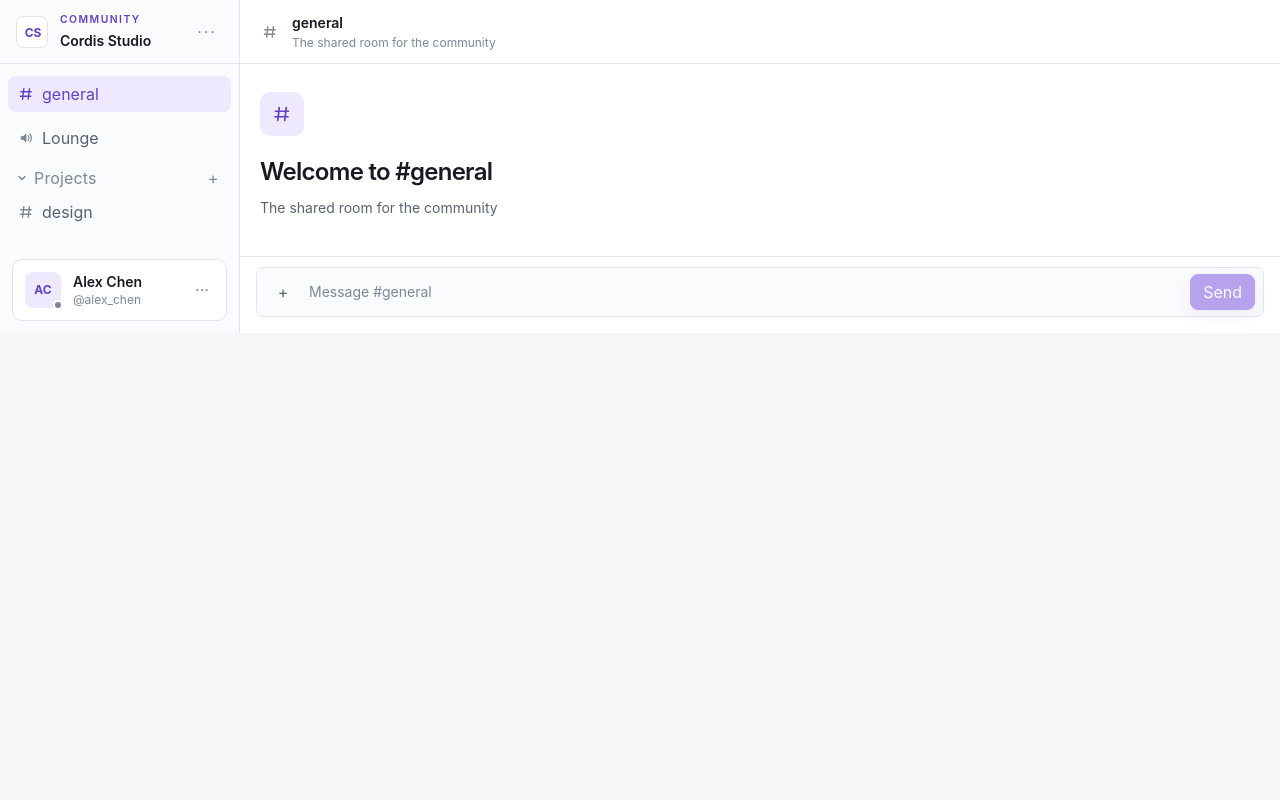
GuildPage › creates and selects a top-level channel from the community menu
Click the button named "Community menu".
click(207, 32)  # box [191,16,223,48]
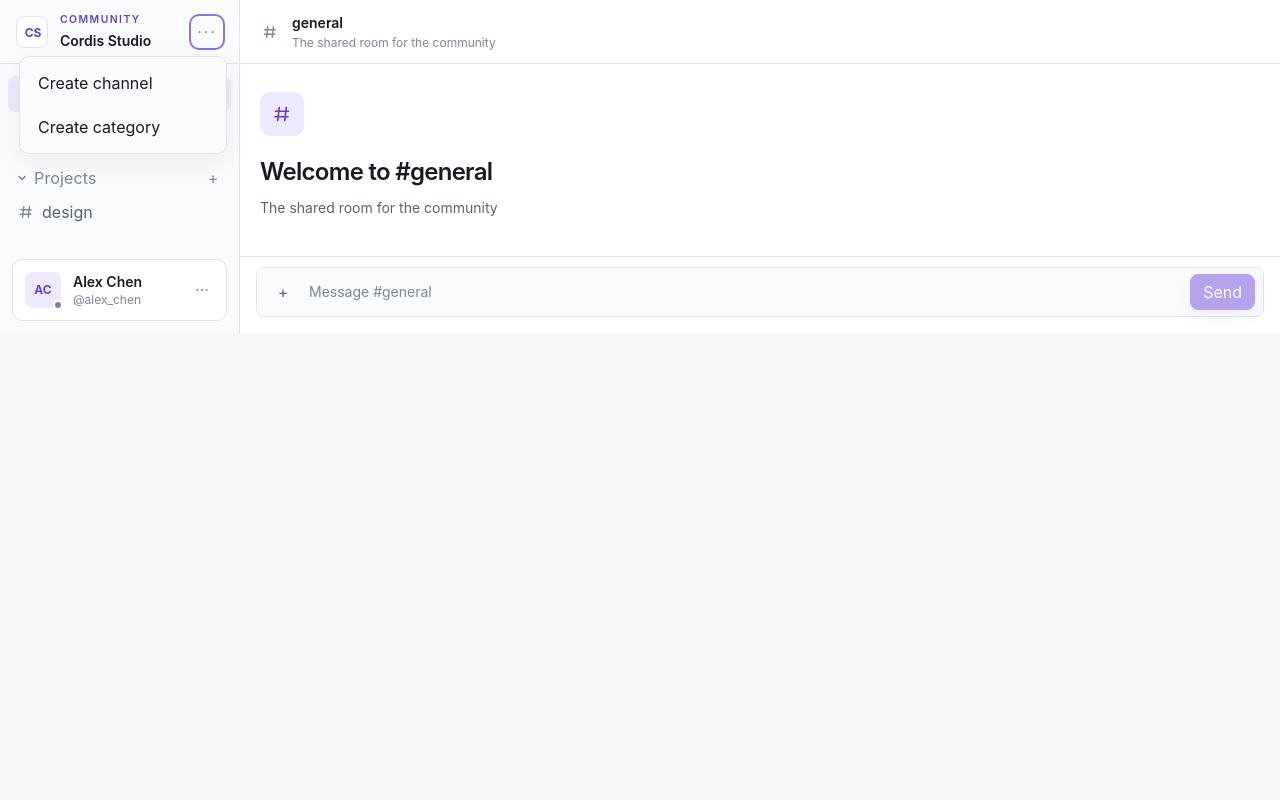
Click the menu item "Create channel".
click(123, 83)  # box [26,63,220,103]
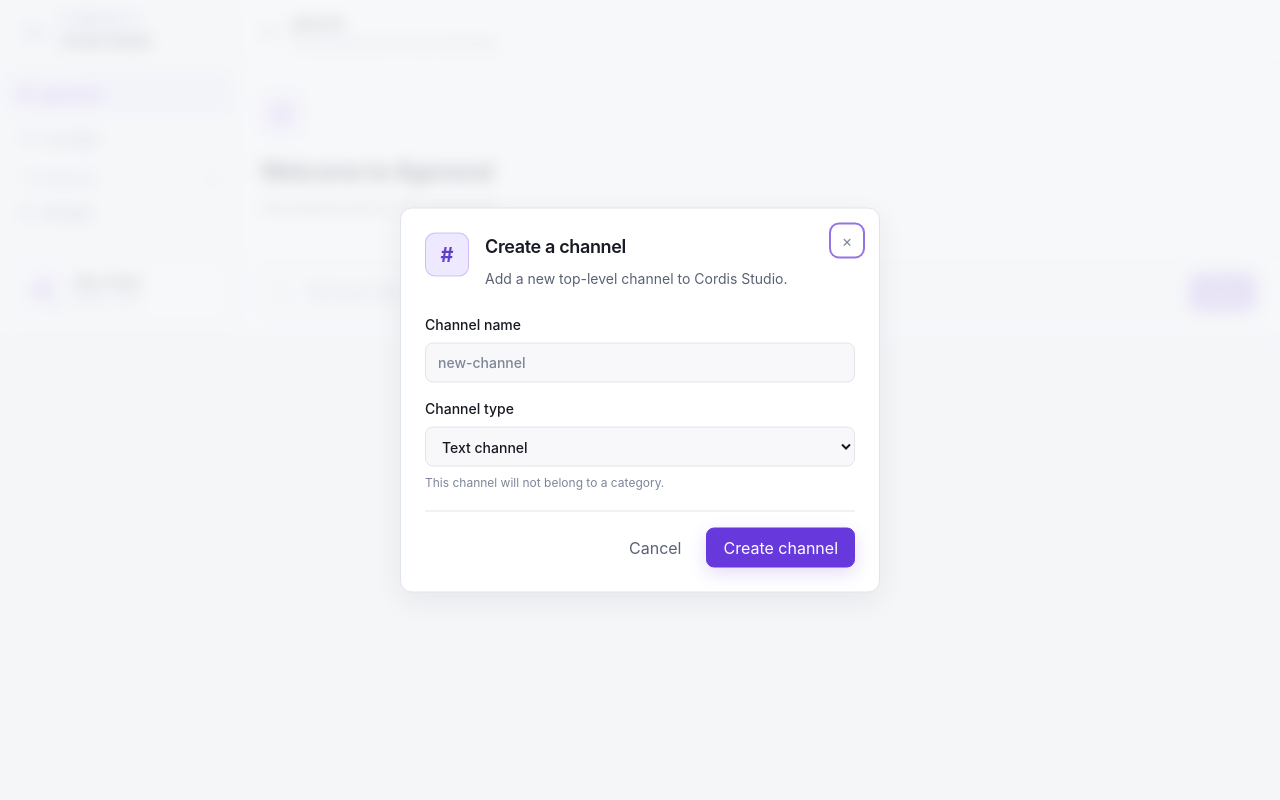
Expected: the text "This channel will not belong to a category." is shown, [425,474,664,490]
Type "announcements" into the field labelled "Channel name".
click(640, 362); type("announcements")  # box [425,342,855,382]
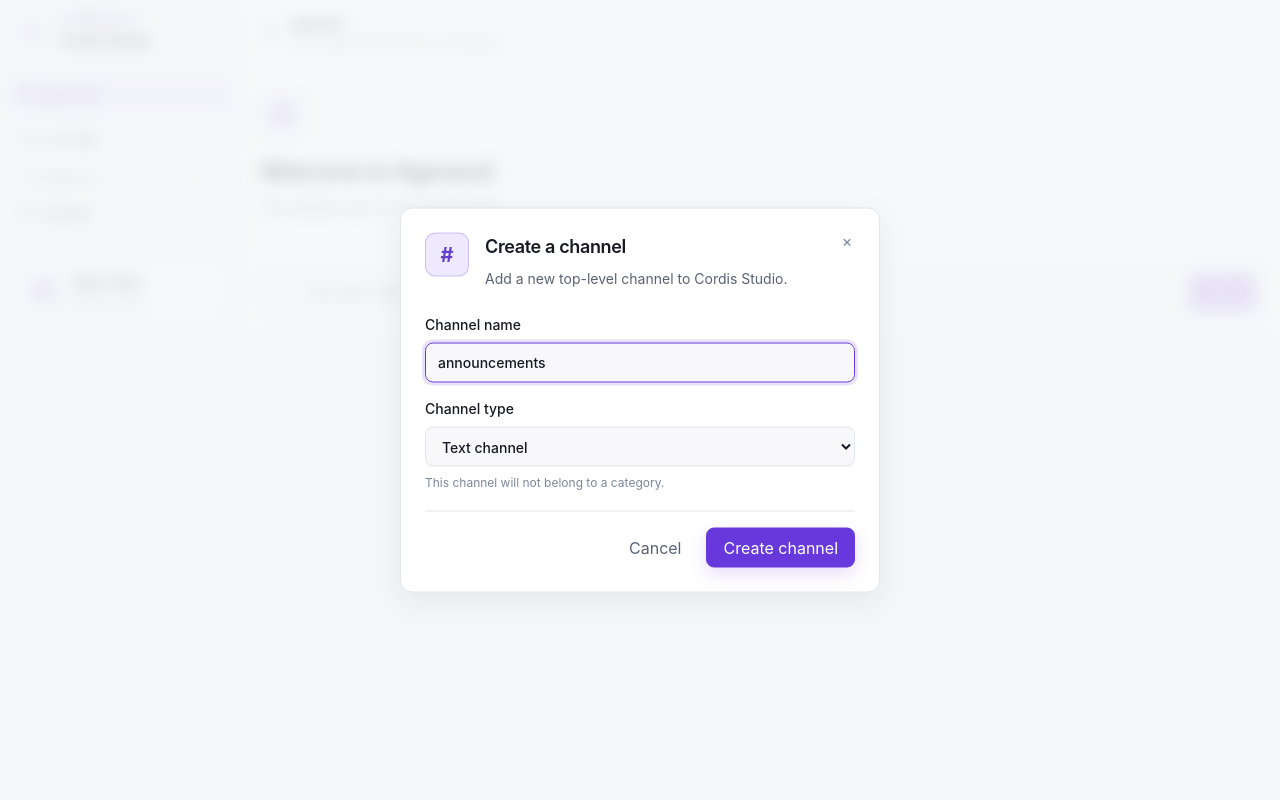
Click the button "Create channel".
click(781, 548)  # box [706,528,855,568]
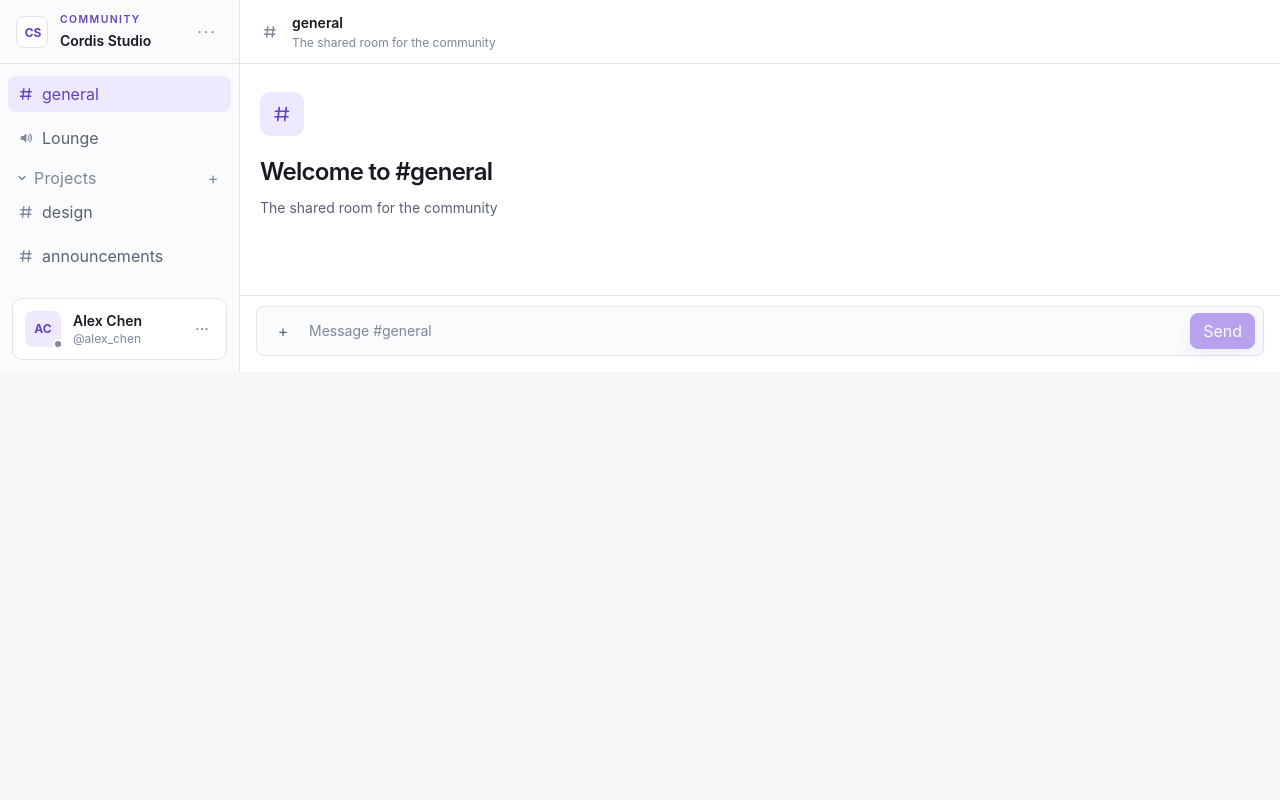
Expected: the dialog is gone
